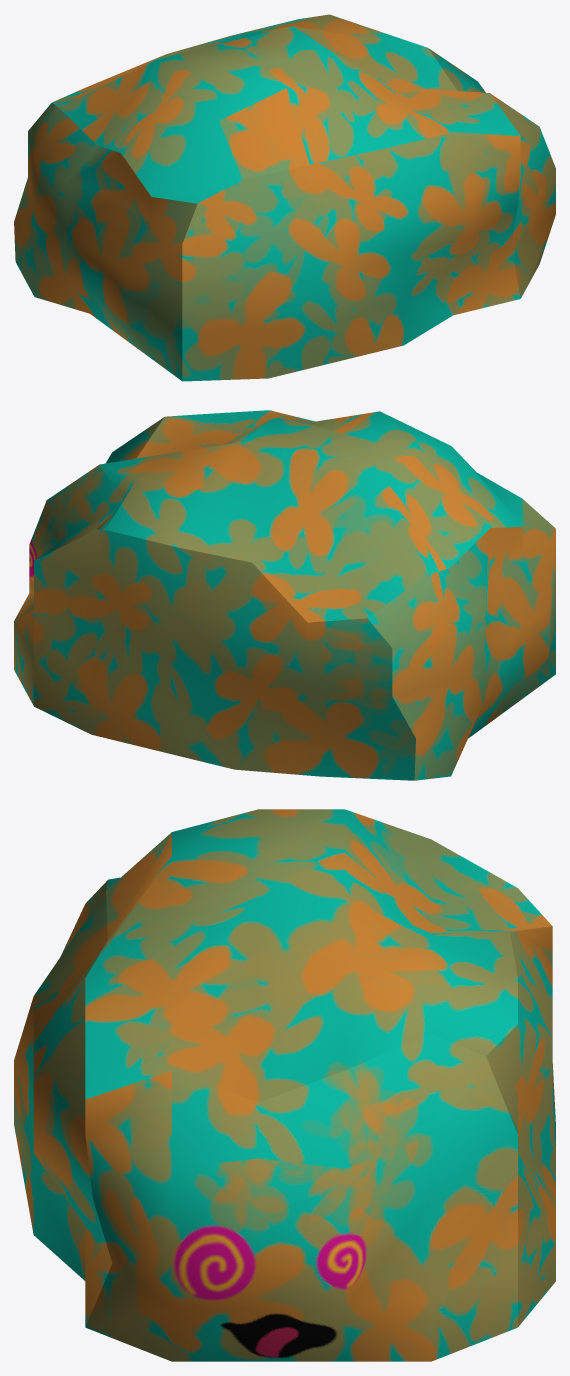
Rendered from rock 2.FBX.
The picture shows the model from 3 angles, top to bottom: view 1: azimuth 30°, elevation 25°; view 2: azimuth 150°, elevation 25°; view 3: azimuth 270°, elevation 25°; orthographic projection. The views are drawn at different scales.
Parts seen in each view (by area): view 1: Caillou 2; view 2: Caillou 2; view 3: Caillou 2.
Part boxes in pixels (x1,y1,x2,y2): Caillou 2: [14, 14, 555, 381]; Caillou 2: [14, 410, 555, 780]; Caillou 2: [14, 809, 555, 1361].
Size of the model in its own units: 127 by 67.42 by 99.37.
1 material, 1 textured.
